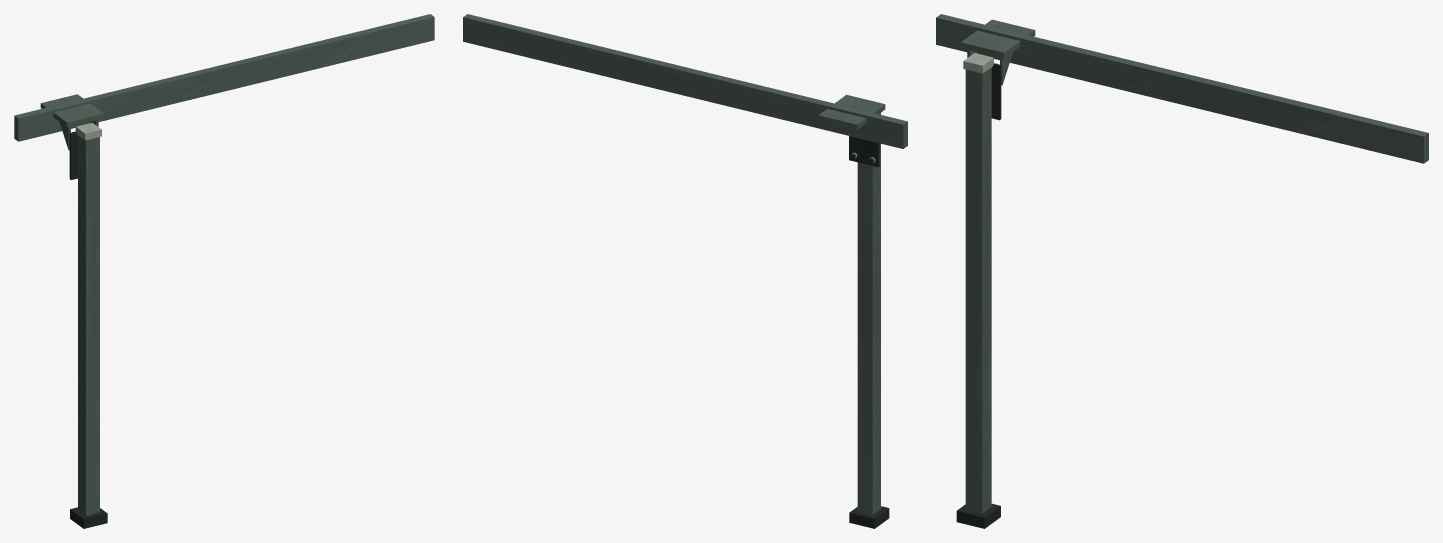
Rendered from SG_GuidePost.glb.
3 renders of one model, left to right at view 1: azimuth 30°, elevation 25°; view 2: azimuth 150°, elevation 25°; view 3: azimuth 330°, elevation 25°, orthographic. The views are drawn at different scales.
Visible parts, largest first — view 1: SG_Post_Right; view 2: SG_Post_Right; view 3: SG_Post_Right.
Boxes of the visible parts, <box> form: SG_Post_Right: <box>14,14,434,528</box>; SG_Post_Right: <box>463,14,907,528</box>; SG_Post_Right: <box>936,14,1428,528</box>.
Size of the model in its own units: 2.26 by 2.09 by 0.345.
Materials: 1 (1 with a texture image).
